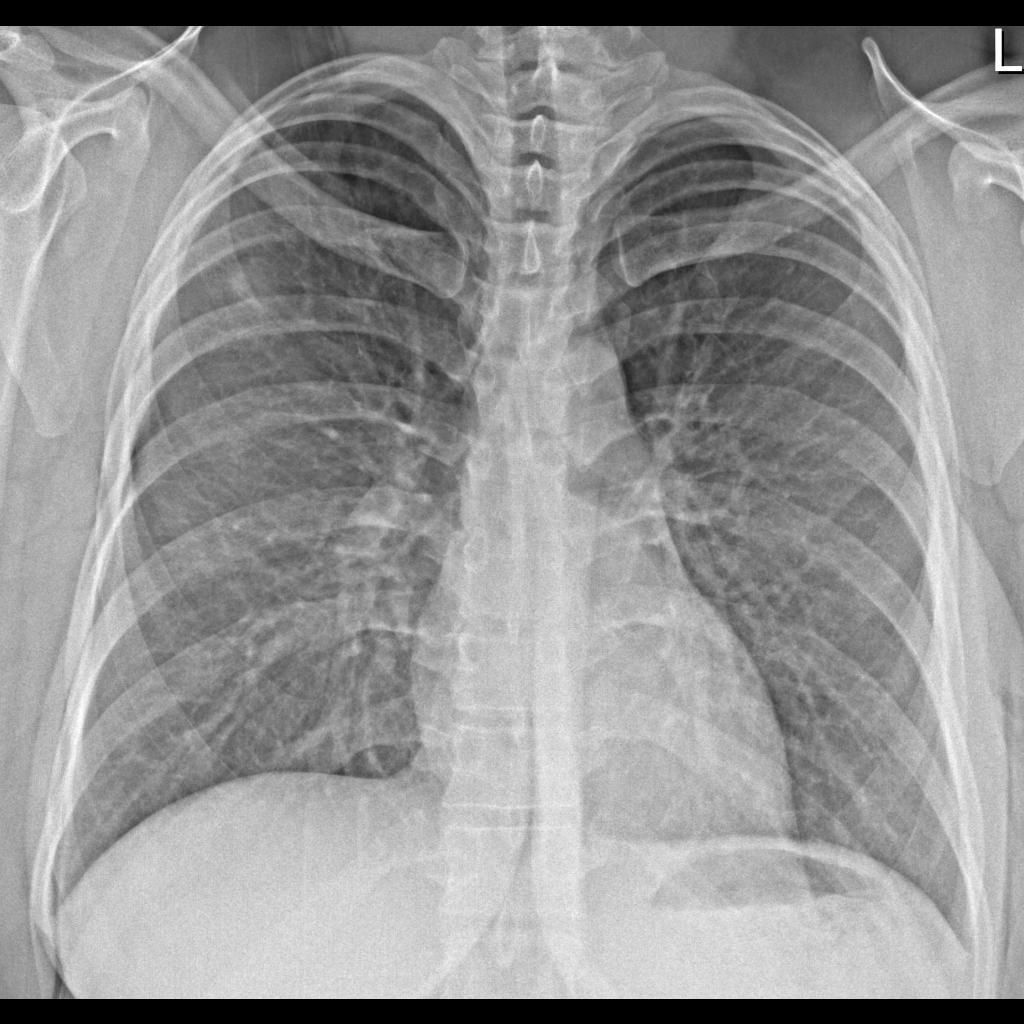Nodule: (221, 245, 291, 327)
